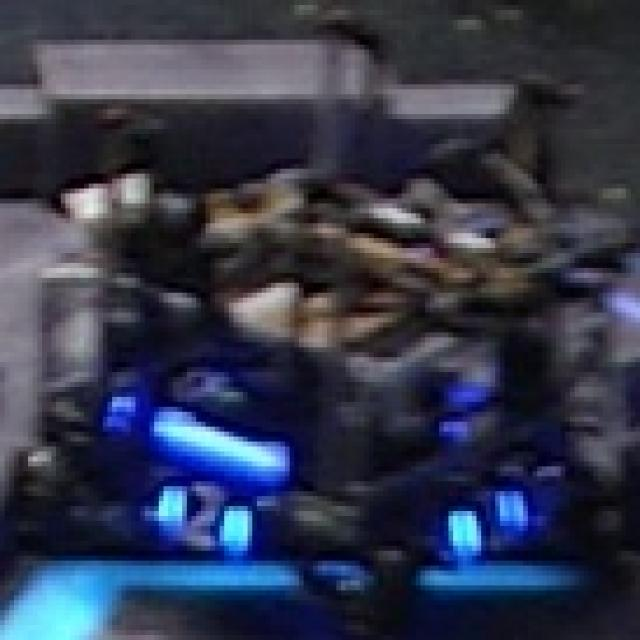B2: (140, 471, 266, 566)
